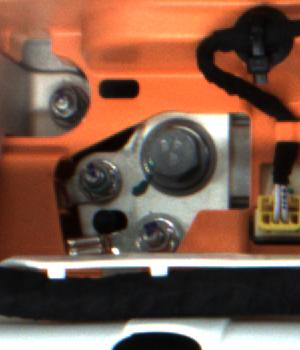nut_b: (143, 118, 214, 193)
screw_s: (42, 82, 85, 124), (76, 158, 118, 196), (133, 215, 174, 248)
